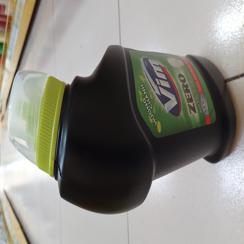vim black: (6, 40, 238, 221)
